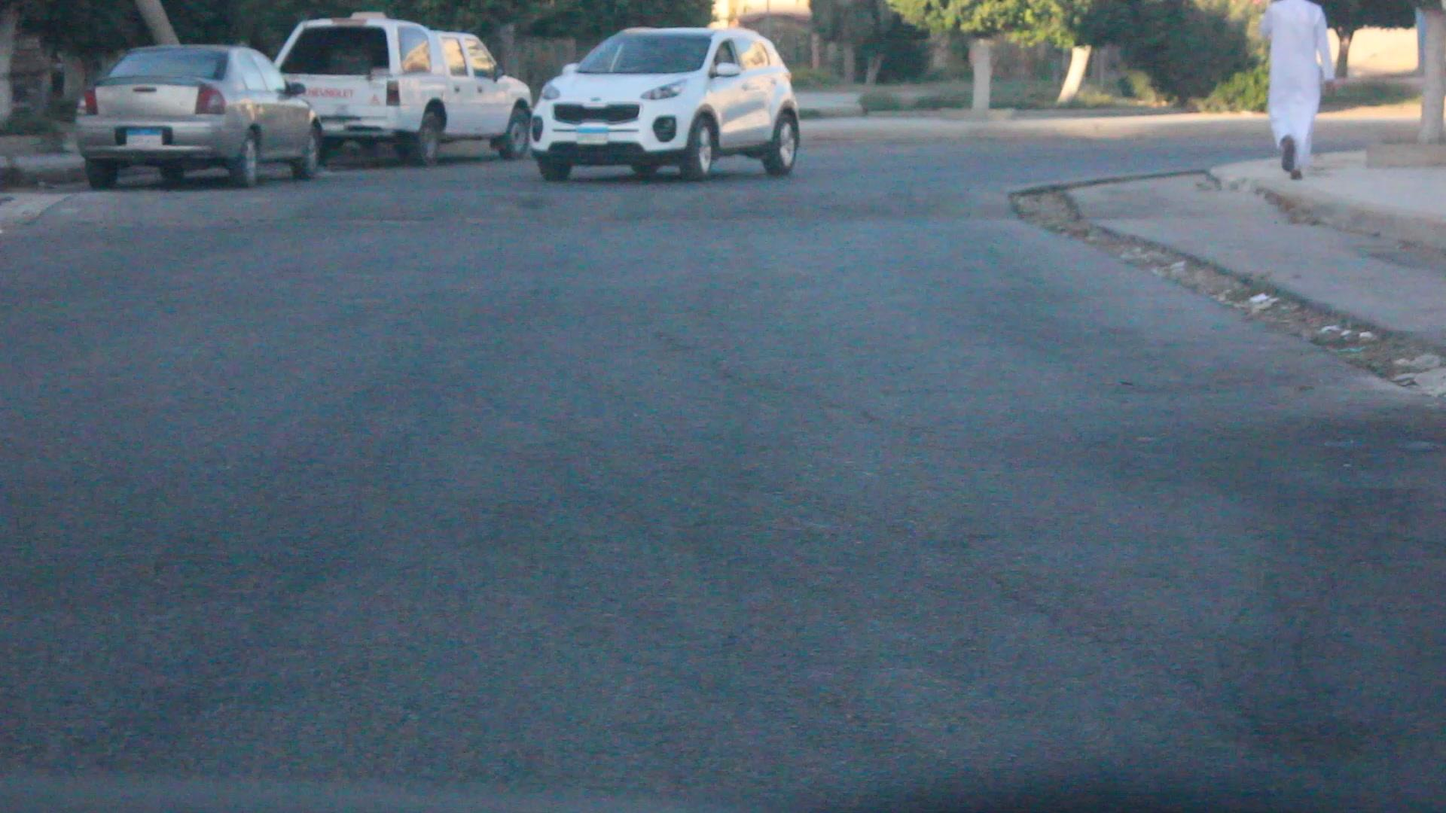Bump: (13, 192, 1004, 226)
